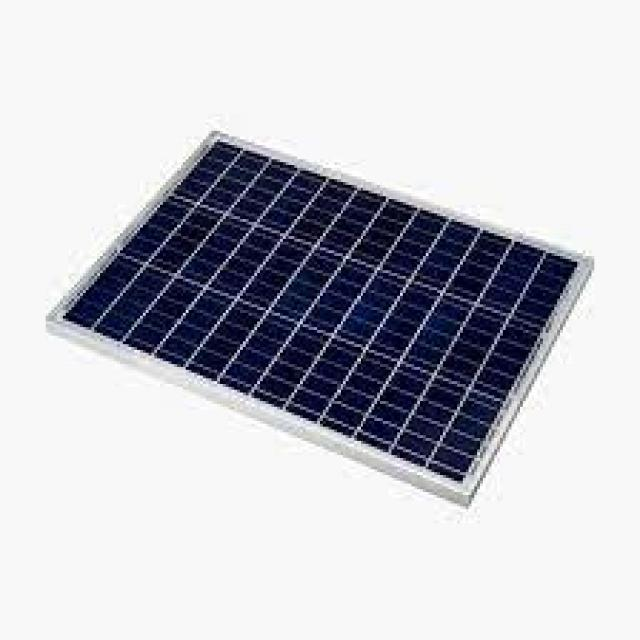no faulty: (101, 124, 566, 494)
